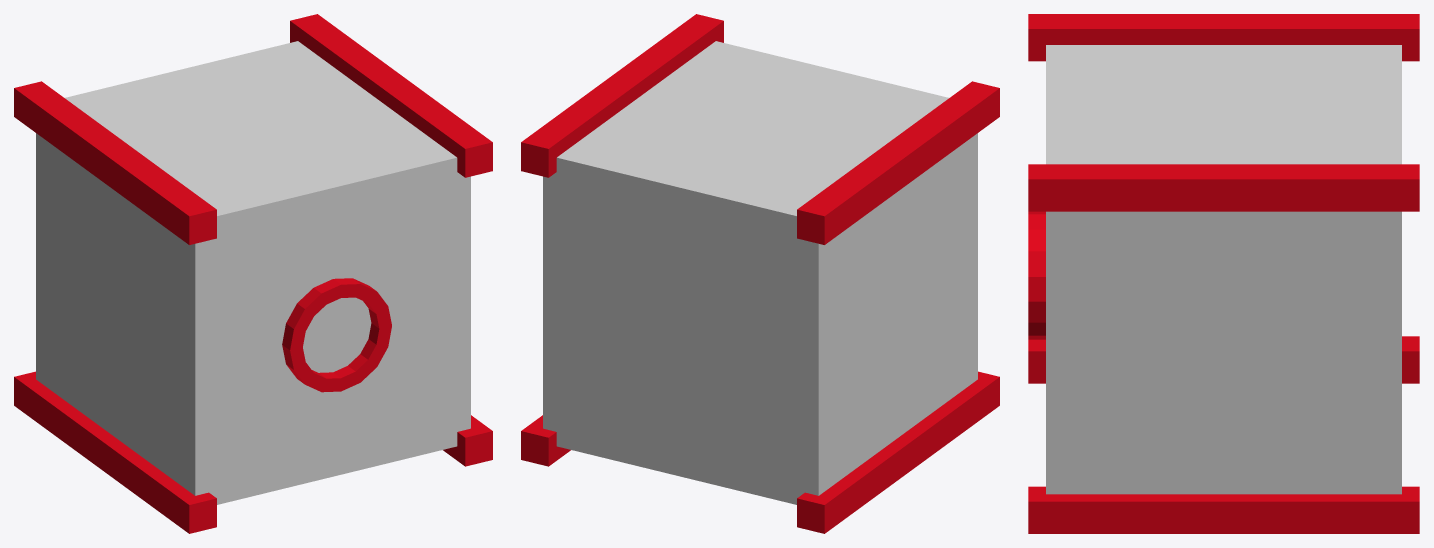
Rendered from laser.glb.
3 renders of one model, left to right at view 1: azimuth 30°, elevation 25°; view 2: azimuth 150°, elevation 25°; view 3: azimuth 270°, elevation 25°, orthographic. The views are drawn at different scales.
Parts seen in each view (by area): view 1: Cube; view 2: Cube; view 3: Cube.
Part boxes in pixels (left/top/right/bottom): Cube: left=14, top=14, right=492, bottom=533; Cube: left=521, top=14, right=999, bottom=533; Cube: left=1028, top=14, right=1419, bottom=533.
Size of the model in its own units: 2.2 by 2.2 by 2.2.
